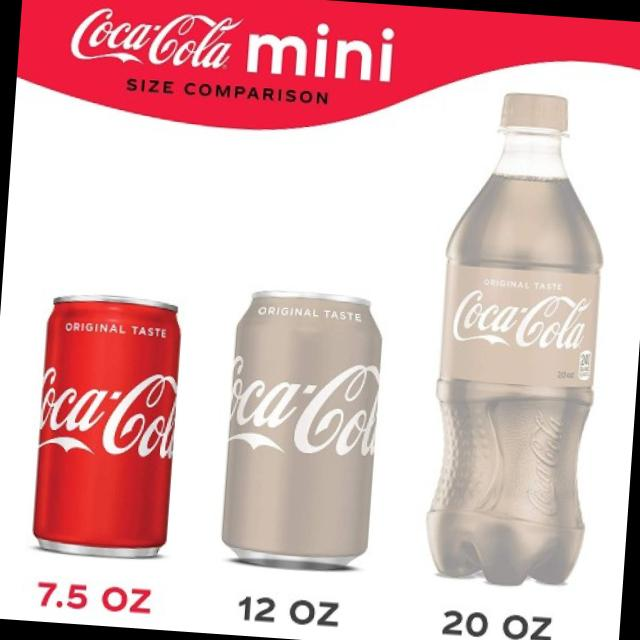cocacola: (17, 283, 186, 566)
